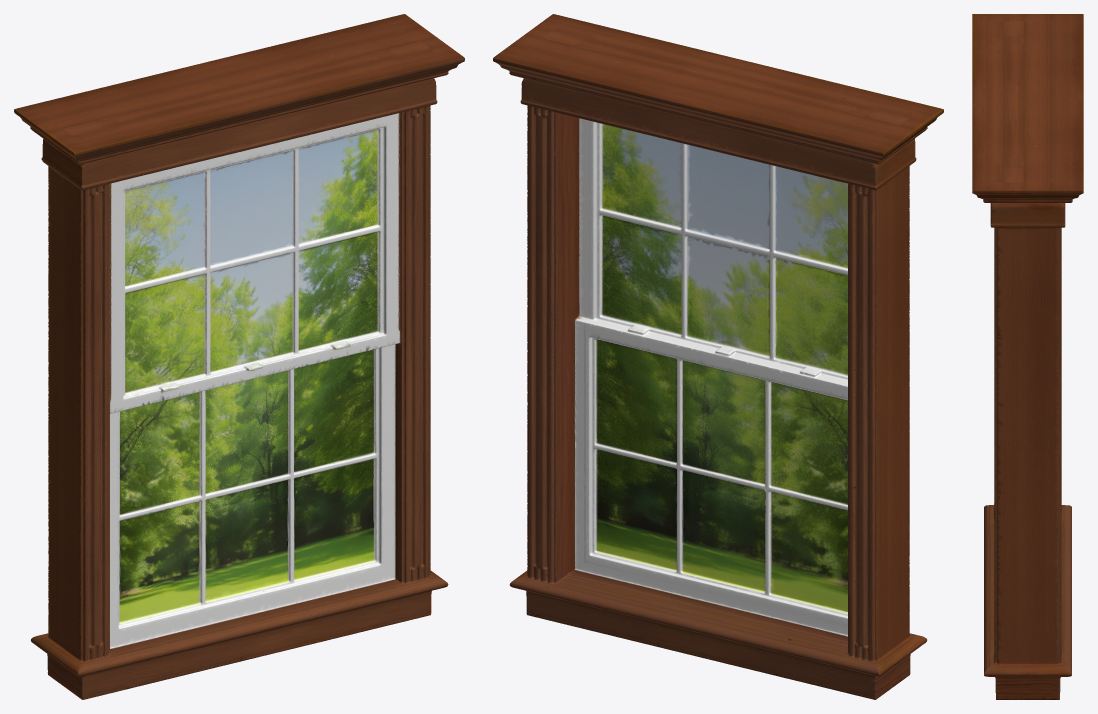
Rendered from single window.glb.
3 views of the same model, side by side, from view 1: azimuth 30°, elevation 25°; view 2: azimuth 150°, elevation 25°; view 3: azimuth 270°, elevation 25° (orthographic). The views are drawn at different scales.
Visible parts, largest first — view 1: Mesh_0; view 2: Mesh_0; view 3: Mesh_0.
Part boxes in pixels (box(x1,y1,x2,y2)): Mesh_0: box(14, 14, 464, 699); Mesh_0: box(493, 14, 943, 699); Mesh_0: box(972, 14, 1083, 699).
Bounding box in the file's own units: 0.8743 × 1.2 × 0.2336.
Materials: 1 (1 with a texture image).
